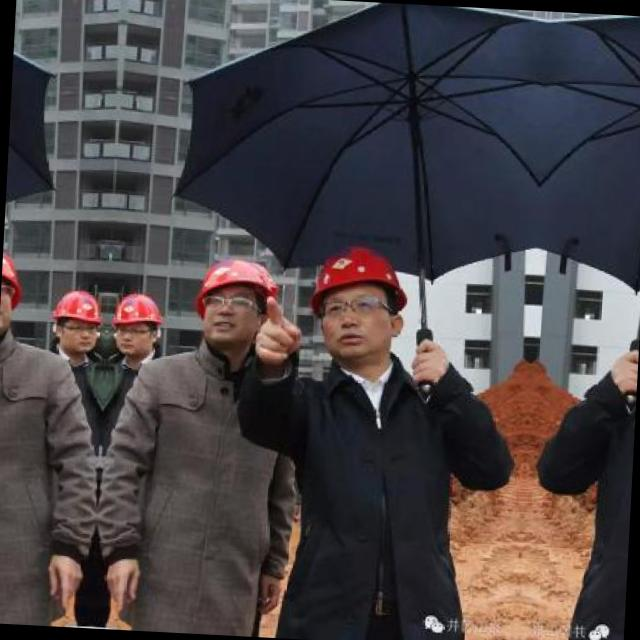helmet: (306, 241, 410, 369), (188, 252, 287, 364), (107, 286, 166, 363), (46, 282, 104, 360), (0, 242, 27, 351)
